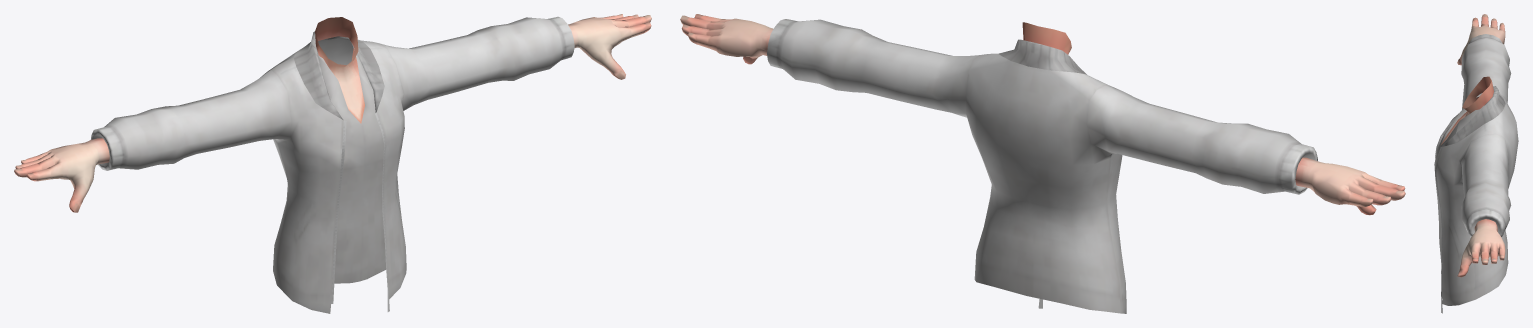
File: tr0800_00_upb02.gltf
The picture shows the model from 3 angles, left to right: view 1: azimuth 30°, elevation 25°; view 2: azimuth 150°, elevation 25°; view 3: azimuth 270°, elevation 25°; orthographic projection. The views are drawn at different scales.
Parts seen in each view (by area): view 1: upb02_upperbody_mesh_shape:upperbody02, upb02_upperskin_mesh_shape:upperbody02_skin; view 2: upb02_upperbody_mesh_shape:upperbody02, upb02_upperskin_mesh_shape:upperbody02_skin; view 3: upb02_upperbody_mesh_shape:upperbody02, upb02_upperskin_mesh_shape:upperbody02_skin.
Boxes of the visible parts, left/top/right/bottom form: upb02_upperbody_mesh_shape:upperbody02: left=90, top=16, right=574, bottom=313; upb02_upperskin_mesh_shape:upperbody02_skin: left=14, top=14, right=651, bottom=212; upb02_upperbody_mesh_shape:upperbody02: left=767, top=19, right=1317, bottom=313; upb02_upperskin_mesh_shape:upperbody02_skin: left=680, top=14, right=1405, bottom=215; upb02_upperbody_mesh_shape:upperbody02: left=1434, top=34, right=1518, bottom=313; upb02_upperskin_mesh_shape:upperbody02_skin: left=1441, top=14, right=1505, bottom=277.
Size of what is drawn, in the model's own units: 1.63 by 0.6818 by 0.2347.
2 materials, 2 textured.
